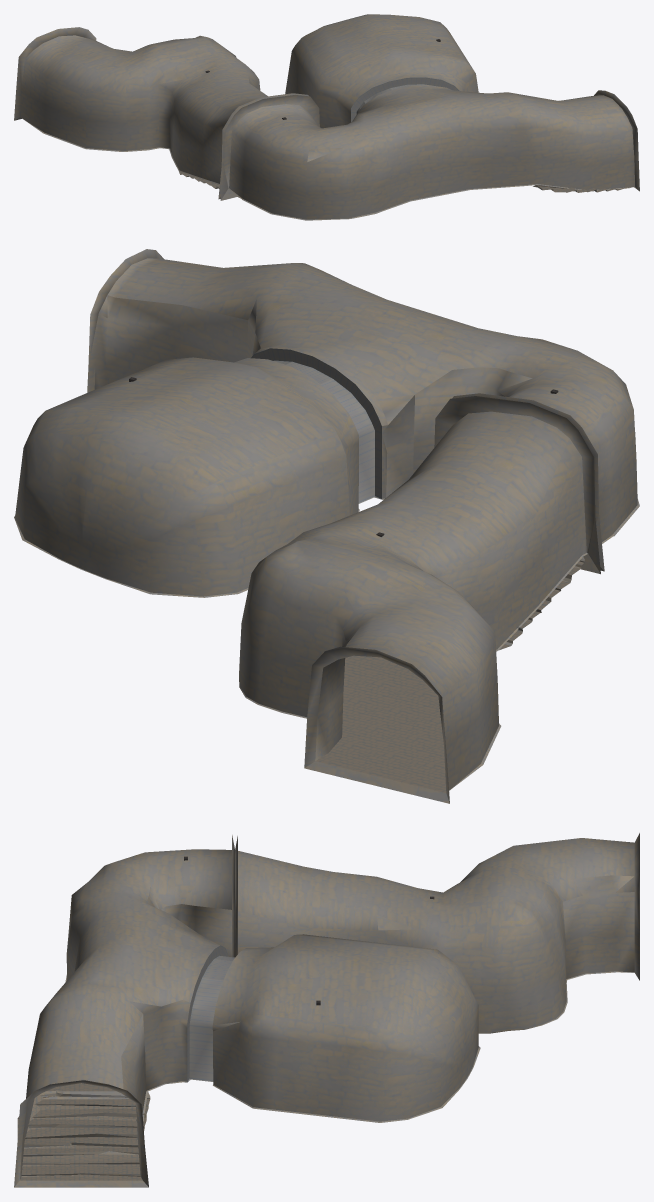
File: R_Tun4.glb
3 renders of one model, top to bottom at view 1: azimuth 30°, elevation 25°; view 2: azimuth 150°, elevation 25°; view 3: azimuth 270°, elevation 25°, orthographic. The views are drawn at different scales.
Visible parts, largest first — view 1: _R_Tun4; view 2: _R_Tun4; view 3: _R_Tun4.
Boxes of the visible parts, x1=… form: _R_Tun4: x1=14, y1=14, x2=639, y2=220; _R_Tun4: x1=14, y1=249, x2=639, y2=803; _R_Tun4: x1=14, y1=833, x2=639, y2=1187.
Size of the model in its own units: 20.35 by 5.85 by 20.37.
Materials: 5 (5 with a texture image).
